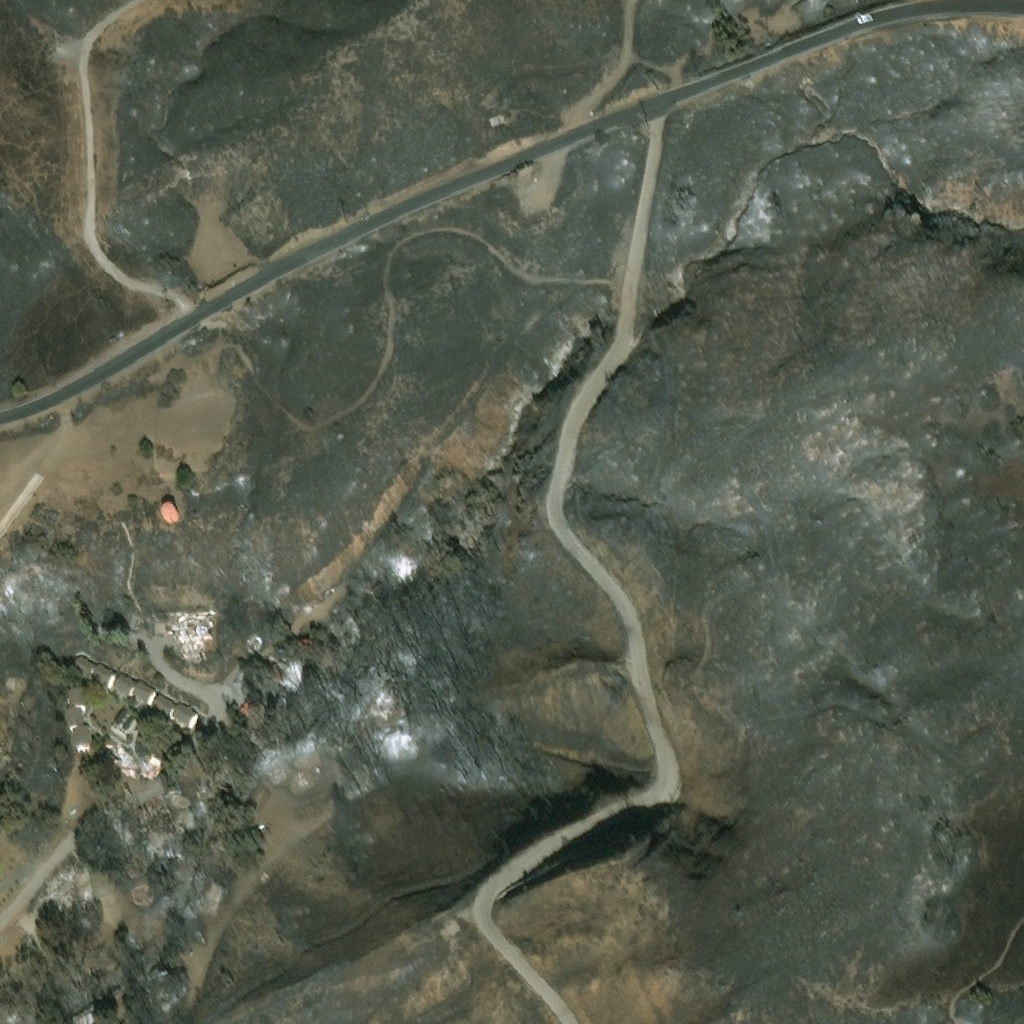0 no-damage: (145, 682, 172, 709), (168, 691, 194, 719), (106, 662, 132, 689), (128, 669, 153, 696), (87, 653, 112, 679), (68, 646, 93, 671), (60, 698, 83, 722), (70, 716, 88, 743), (63, 679, 83, 699), (163, 509, 180, 527)
2 major-damage: (100, 728, 125, 753), (235, 697, 251, 711), (239, 693, 254, 705)
3 destroyed: (33, 853, 92, 917), (167, 603, 209, 650), (132, 788, 168, 818), (112, 744, 137, 769), (285, 758, 308, 782), (137, 741, 157, 768), (126, 871, 148, 894), (94, 933, 117, 954), (240, 622, 259, 642), (109, 698, 125, 715), (118, 705, 133, 722), (376, 690, 391, 707), (265, 653, 280, 670), (172, 934, 186, 952), (518, 188, 535, 201), (123, 607, 138, 621), (73, 1002, 87, 1017), (292, 627, 308, 637), (200, 887, 211, 900), (5, 696, 13, 704)
